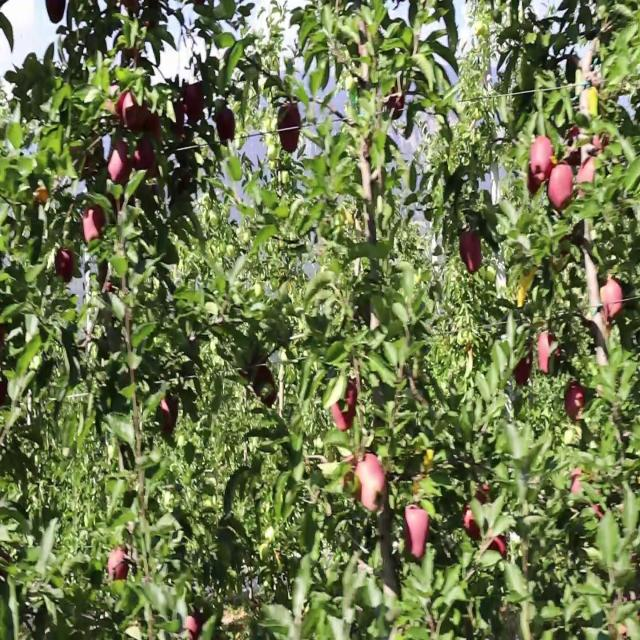apple: (356, 455, 388, 514), (404, 504, 431, 560), (140, 113, 164, 171), (548, 163, 575, 212), (584, 298, 611, 347), (332, 383, 357, 434), (532, 135, 556, 183), (108, 142, 132, 188), (280, 106, 302, 155), (180, 85, 206, 126), (124, 92, 148, 135), (460, 234, 483, 276), (540, 334, 562, 377), (584, 312, 611, 347), (84, 206, 108, 244), (600, 284, 624, 322), (564, 127, 585, 169), (136, 142, 159, 180), (256, 369, 277, 409), (108, 547, 131, 583), (568, 383, 587, 423), (216, 106, 236, 144), (576, 163, 597, 199), (352, 21, 371, 59), (56, 248, 76, 284), (160, 398, 180, 434), (464, 504, 482, 542), (136, 142, 155, 176), (144, 113, 164, 142), (516, 355, 533, 389), (488, 533, 508, 560), (344, 455, 358, 489), (388, 92, 405, 119), (528, 170, 543, 199), (32, 184, 49, 208), (572, 469, 586, 496), (108, 99, 123, 124), (476, 483, 493, 505), (48, 7, 66, 27), (172, 113, 185, 140), (184, 618, 201, 638), (180, 170, 192, 192), (116, 94, 124, 126), (5, 382, 8, 398)
